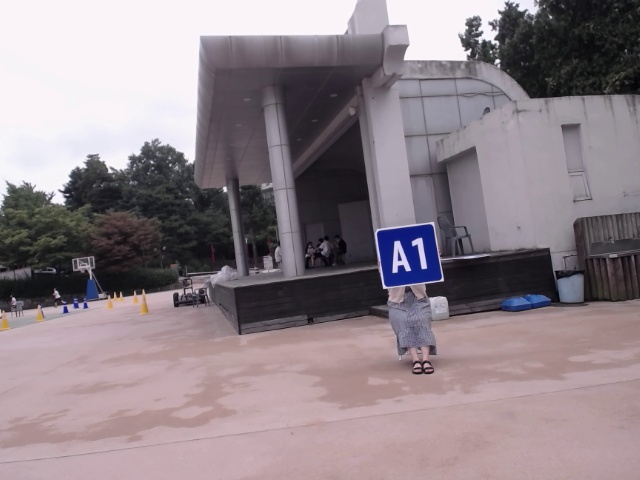delivery_a1: (375, 223, 443, 288)
